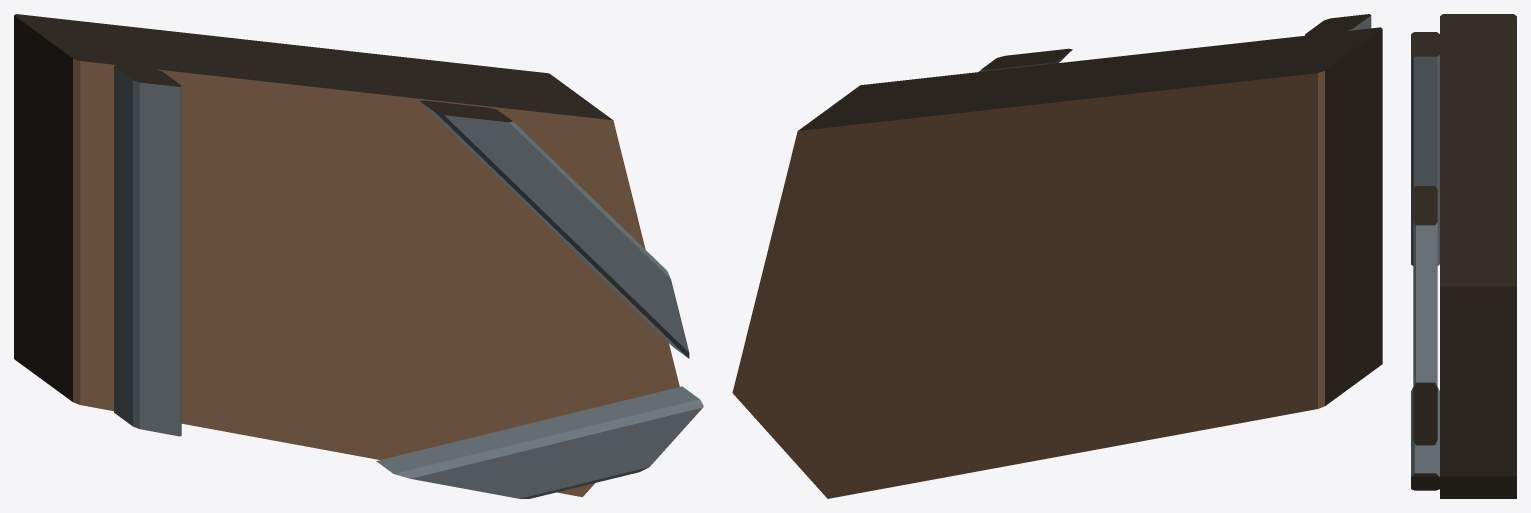
The model's file is SM_DoorShard_03_32.fbx.
3 renders of one model, left to right at view 1: azimuth 30°, elevation 25°; view 2: azimuth 150°, elevation 25°; view 3: azimuth 270°, elevation 25°, orthographic. The views are drawn at different scales.
Parts seen in each view (by area): view 1: SM_DoorShard_03_32; view 2: SM_DoorShard_03_32; view 3: SM_DoorShard_03_32.
Part boxes in pixels (x1,y1,x2,y2): SM_DoorShard_03_32: (14,14,703,498); SM_DoorShard_03_32: (732,14,1382,498); SM_DoorShard_03_32: (1411,14,1516,498).
Size of the model in its own units: 87.03 by 22 by 77.1.
